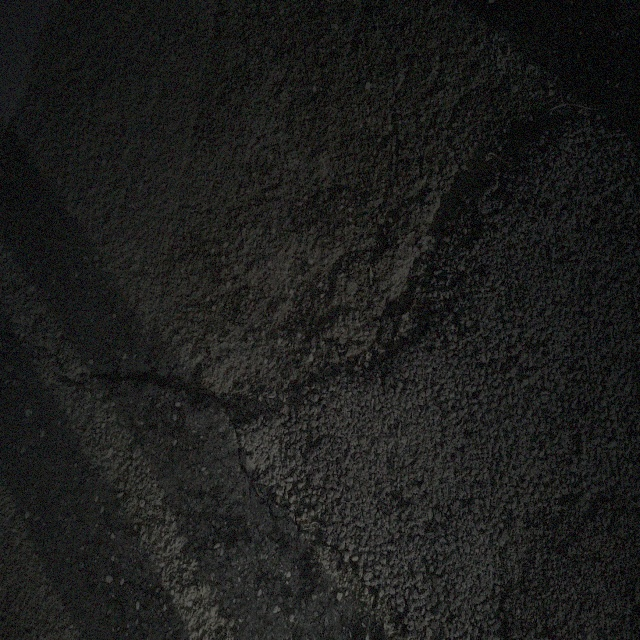pothole: (43, 74, 514, 426)
